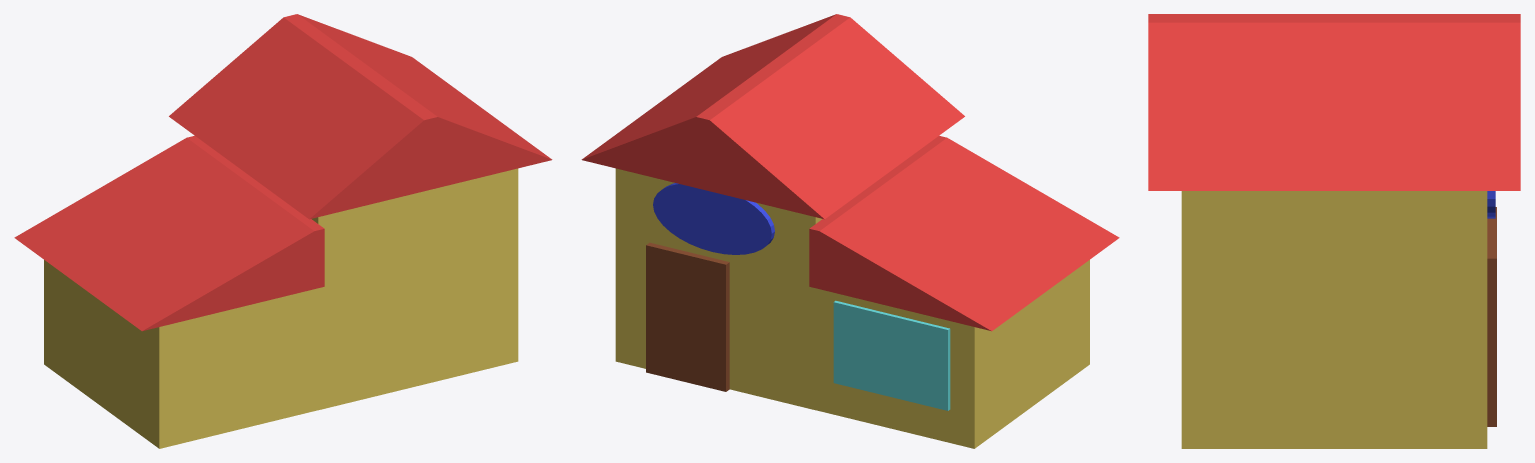
Rendered from House1.glb.
3 views of the same model, side by side, from view 1: azimuth 30°, elevation 25°; view 2: azimuth 150°, elevation 25°; view 3: azimuth 270°, elevation 25° (orthographic). The views are drawn at different scales.
Parts seen in each view (by area): view 1: Cube.002, Cube, Cube.003, Cube.001; view 2: Cube.002, Cube.003, Cube.001, Cube, Cube.004, Cube.005, Cylinder; view 3: Cube, Cube.002, Cube.004.
Boxes of the visible parts, x1=… form: Cube.002: x1=169, y1=14, x2=552, y2=219; Cube: x1=312, y1=168, x2=518, y2=410; Cube.003: x1=14, y1=135, x2=324, y2=331; Cube.001: x1=44, y1=260, x2=318, y2=448; Cube.002: x1=581, y1=14, x2=964, y2=219; Cube.003: x1=809, y1=135, x2=1119, y2=331; Cube.001: x1=815, y1=260, x2=1089, y2=448; Cube: x1=615, y1=168, x2=821, y2=410; Cube.004: x1=646, y1=242, x2=729, y2=391; Cube.005: x1=833, y1=300, x2=950, y2=410; Cylinder: x1=653, y1=183, x2=774, y2=254; Cube: x1=1181, y1=191, x2=1487, y2=448; Cube.002: x1=1148, y1=14, x2=1520, y2=190; Cube.004: x1=1487, y1=207, x2=1496, y2=426.
Size of the model in its own units: 10.25 by 6.7 by 6.18.
